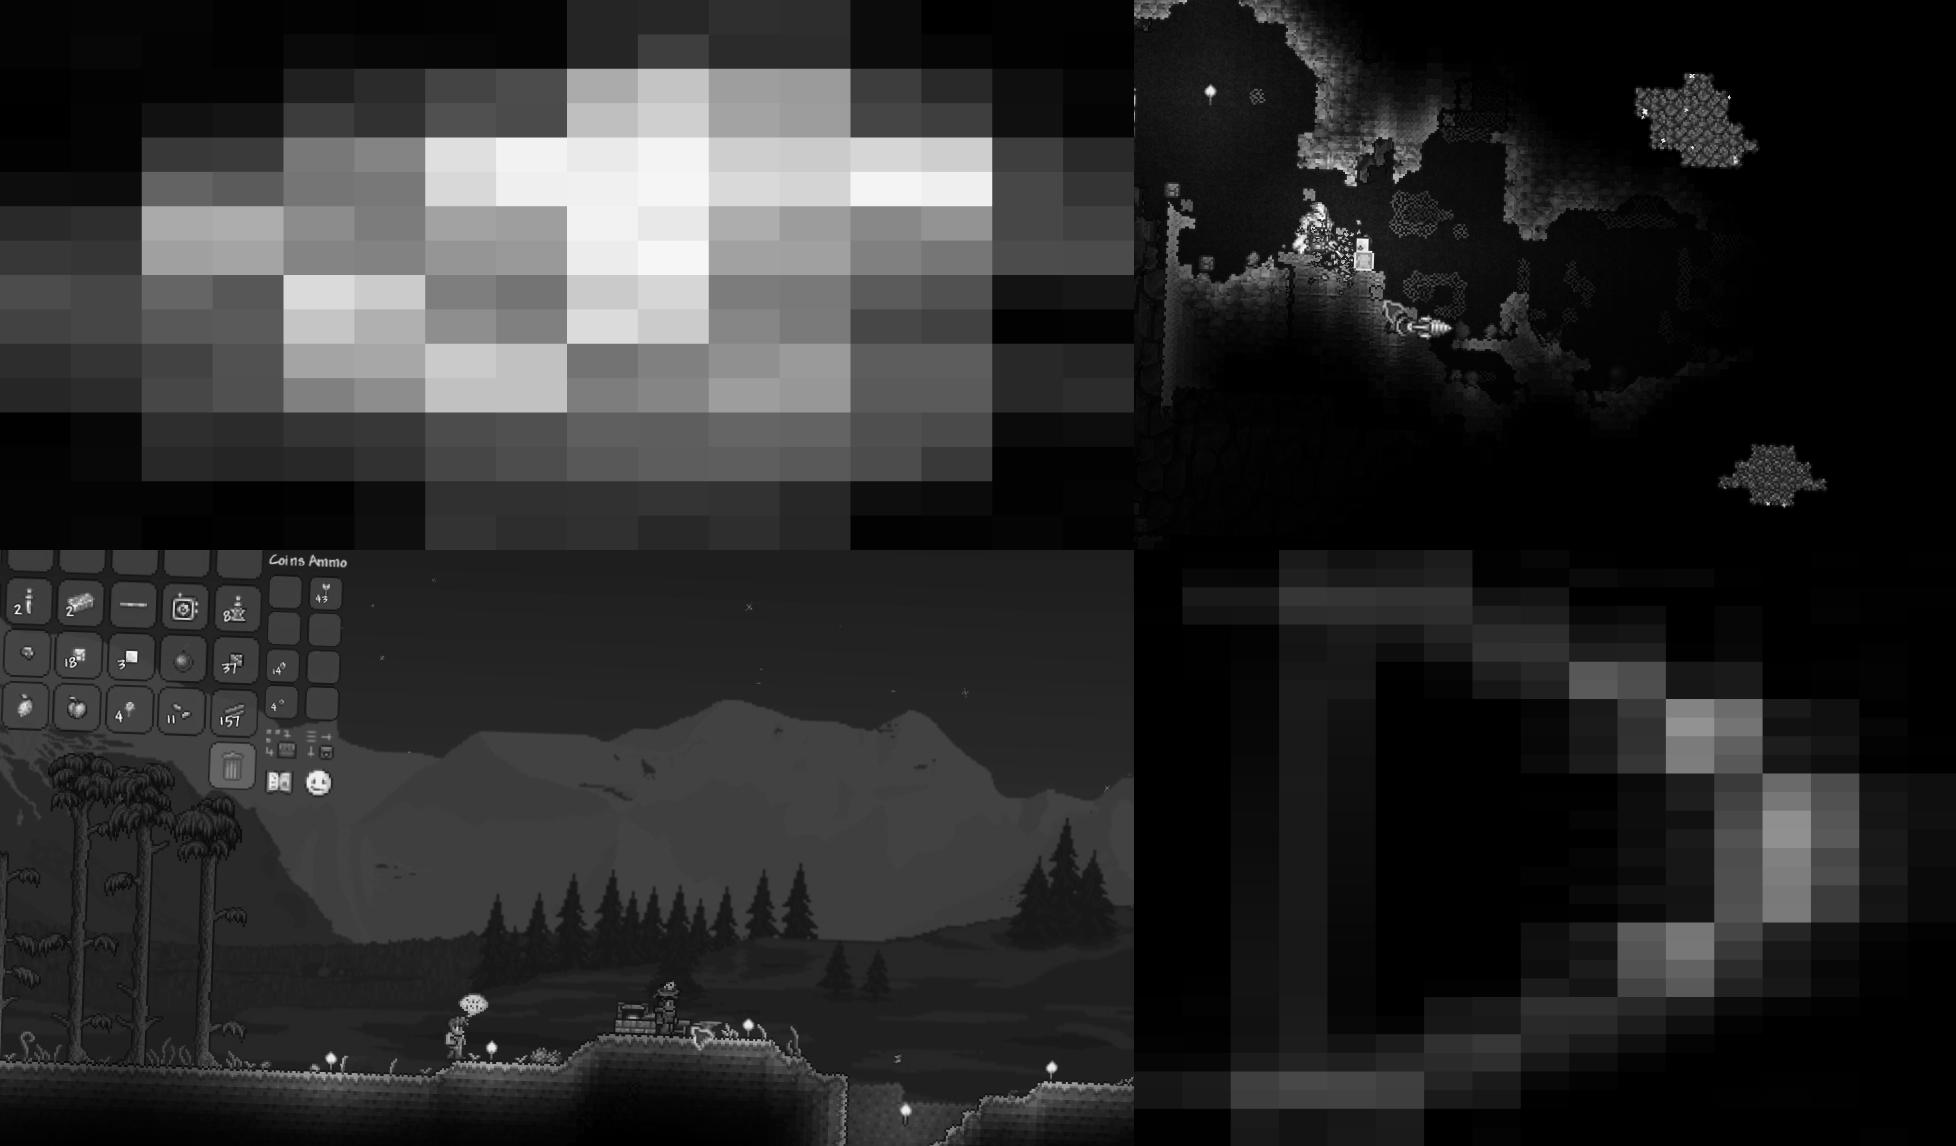bow: (1133, 550, 1956, 1146)
cobwebT: (1389, 187, 1440, 239)
ore: (0, 0, 1133, 550)
